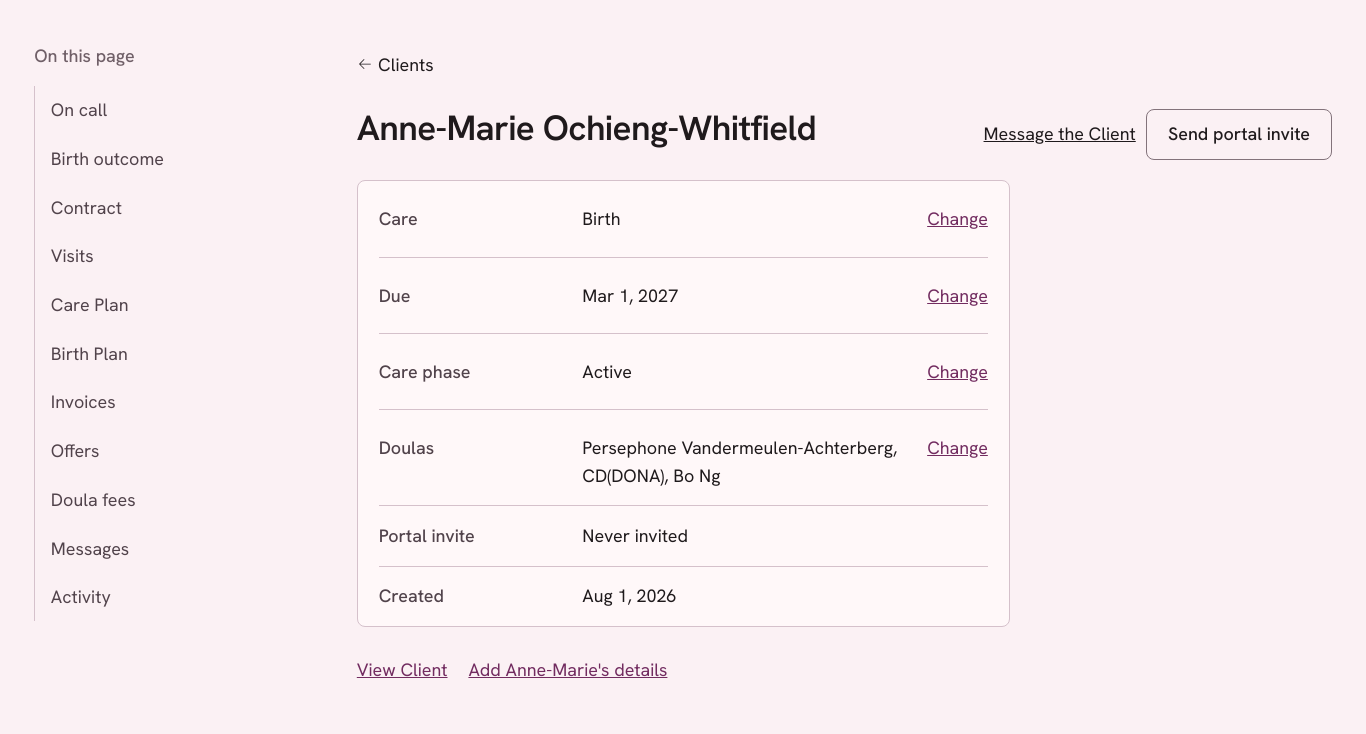
it: the due date's Change (#2013) › saves the new date, closes the form and shows the new date on the card
Click the button "Change" in the row of "Mar 1, 2027" at (958, 295), box [927,273,988,317]
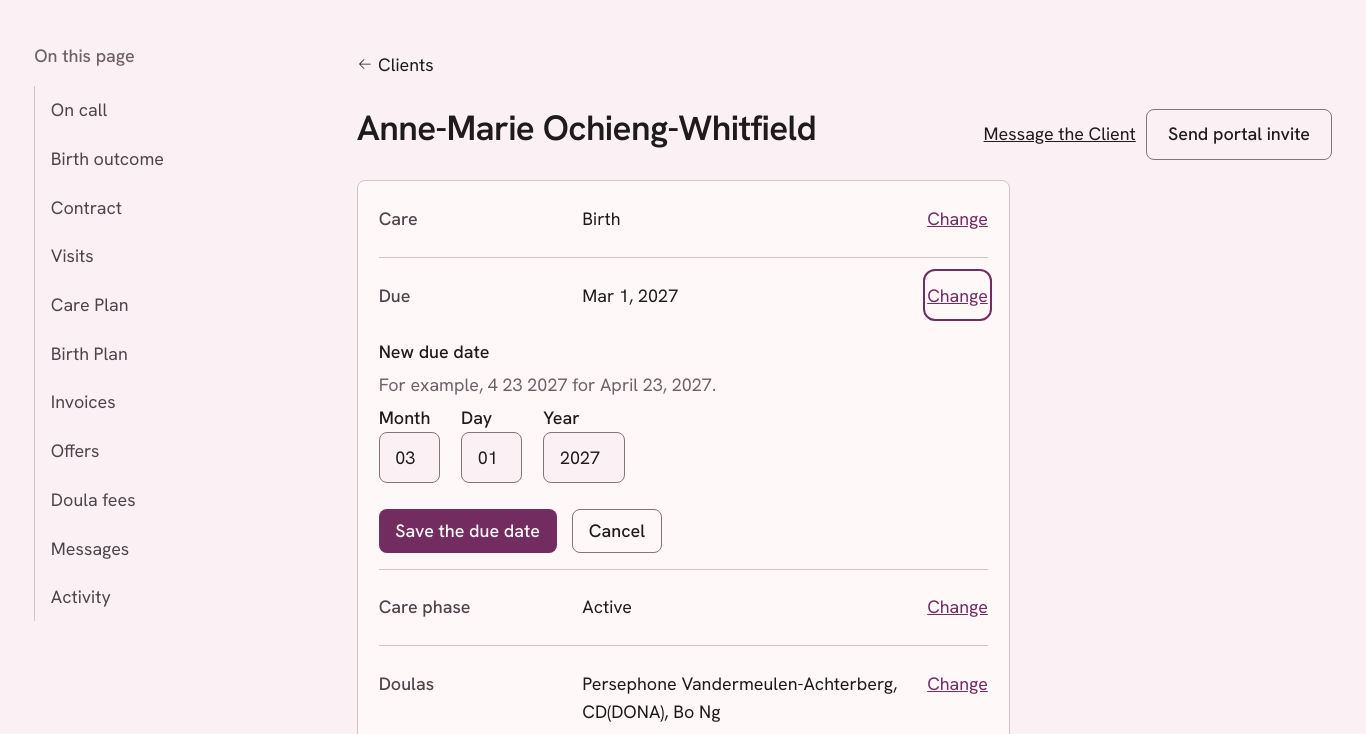
Replace the text in the field labelled "Day" with "15" at (492, 458), box [461,432,522,483]
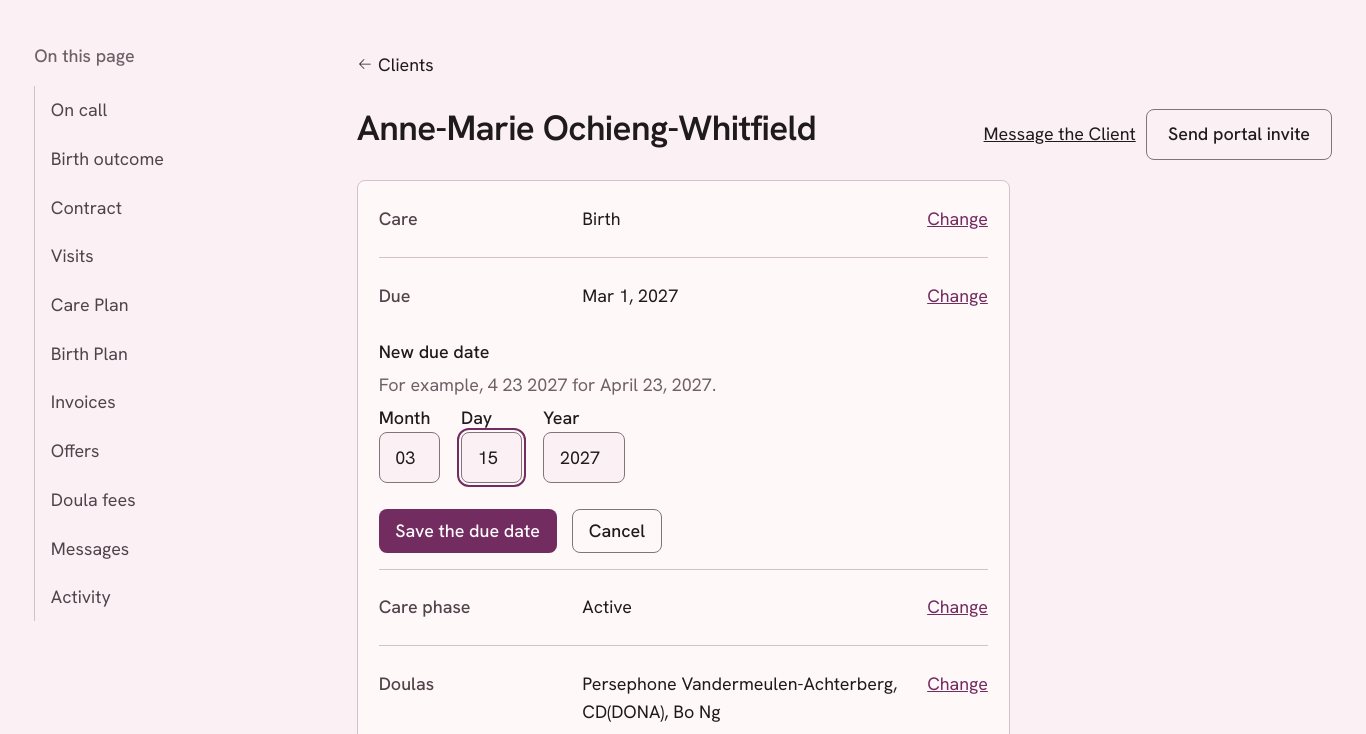
Click the button "Save the due date" at (468, 531), box [379,509,556,553]
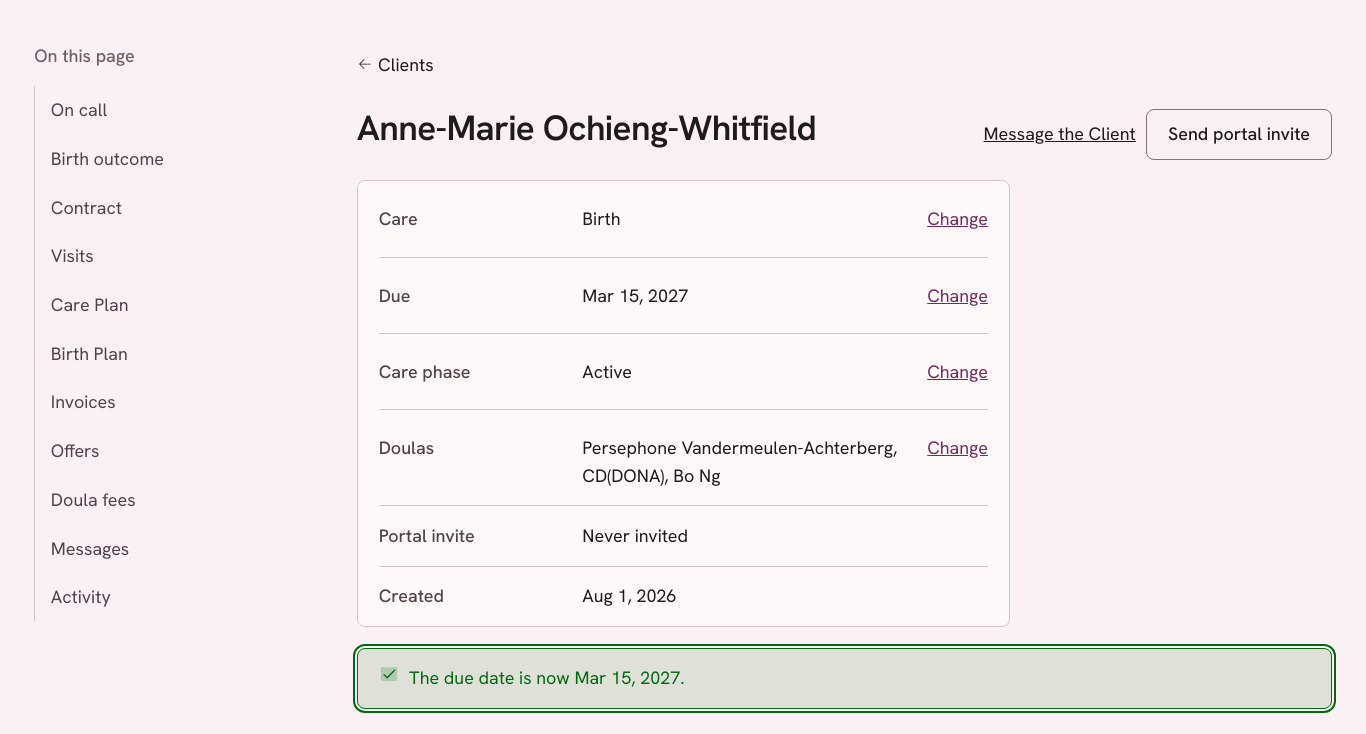
Now the text "Mar 15, 2027" is shown, box [582,284,688,306]
